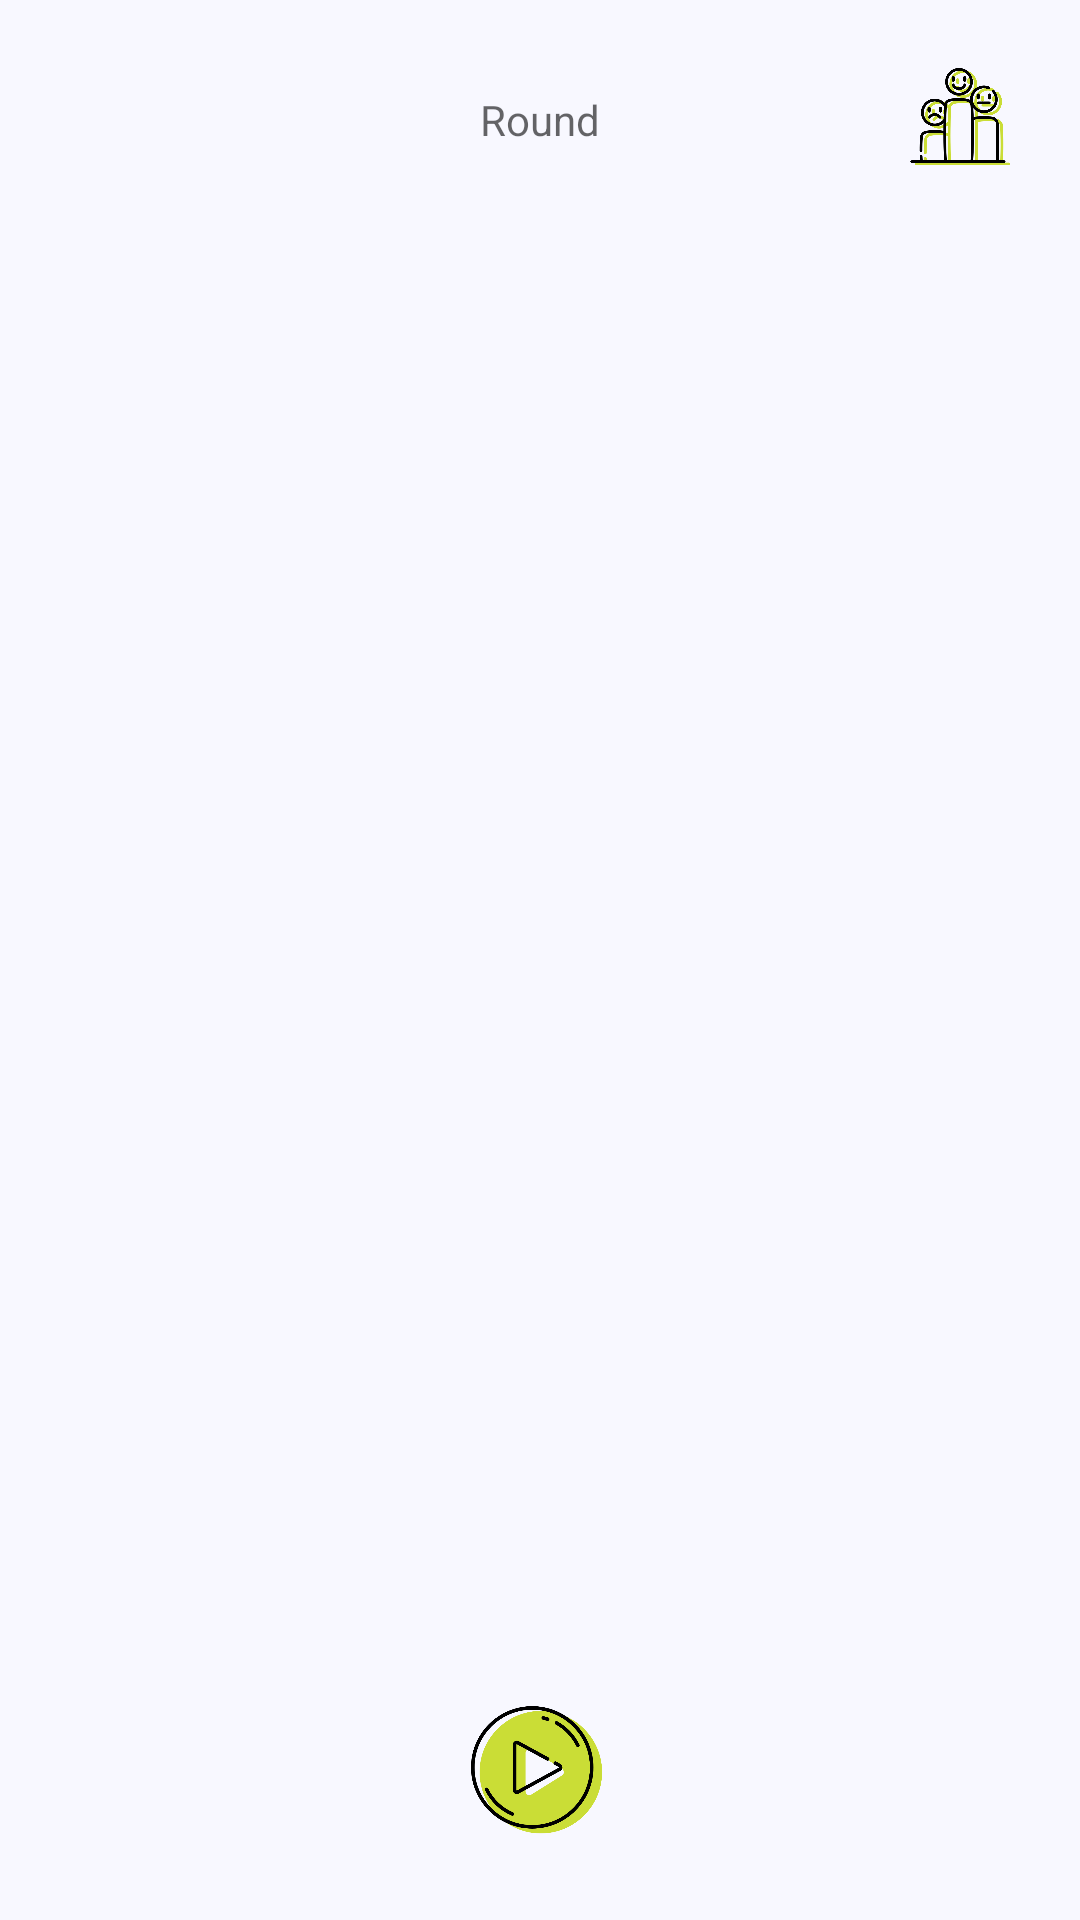

Point at icon controls on the screen. Image size 1080px×1920px, points as [x,y].
players list: [960,116]
